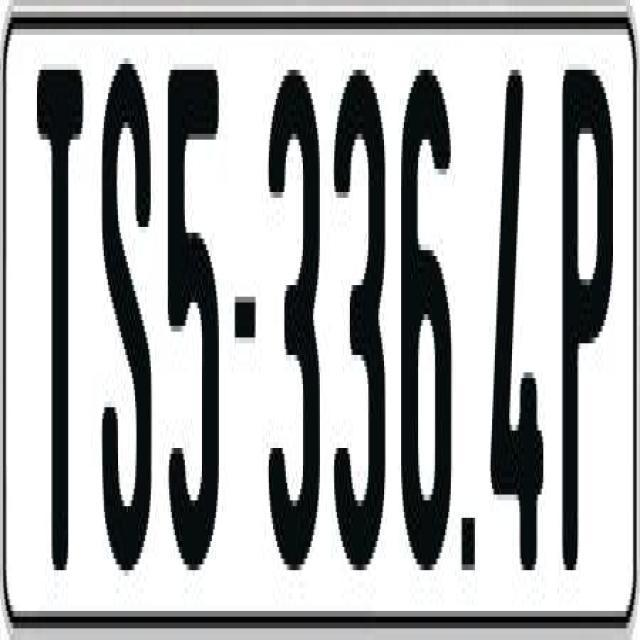3: (334, 58, 386, 582), (269, 64, 320, 570)
4: (486, 58, 539, 582)
5: (168, 70, 223, 570)
6: (399, 64, 454, 570)
P: (563, 70, 617, 588)
S: (100, 64, 152, 576)
T: (32, 70, 86, 594)
